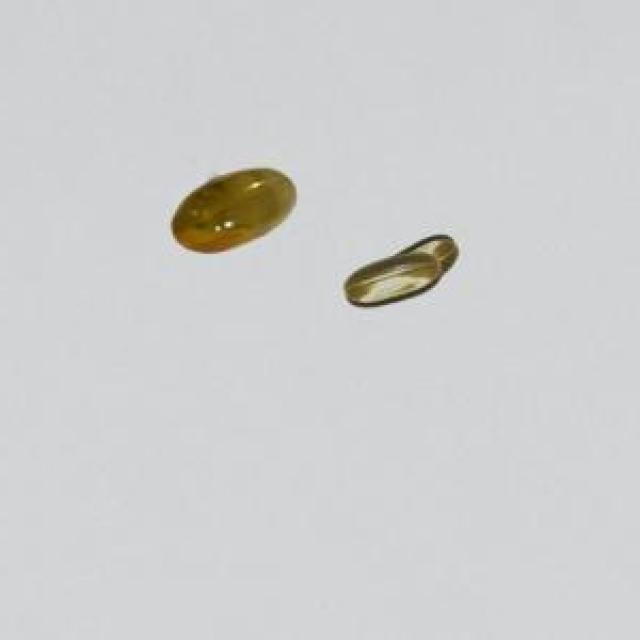Fish_Oil: (156, 162, 308, 265), (339, 215, 472, 327)
